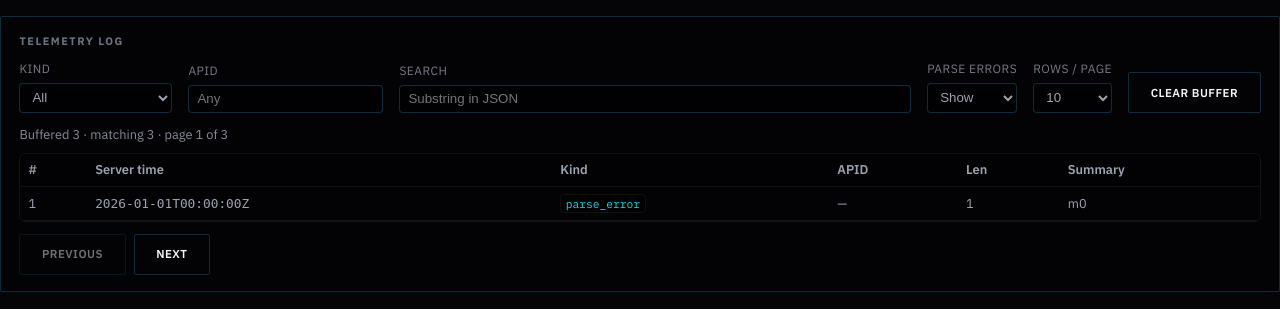
Test case: TelemetryLogTable › pager moves between pages
The image size is (1280, 309).
Expected: the text "m0" is shown, [1060,187,1260,221]
Click the button "Next" at (172, 254), box [134,234,210,275]
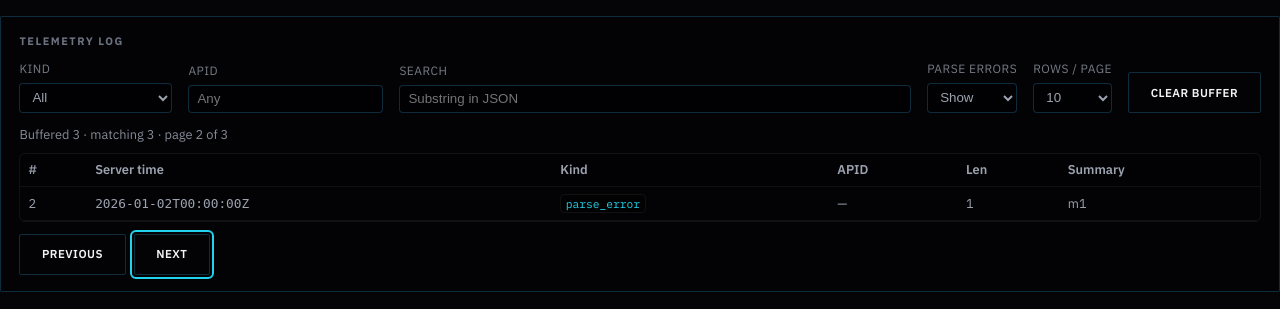
Expected: the text "m1" is shown, [1060,187,1260,221]
Click the button "Previous" at (72, 254), box [19,234,126,275]
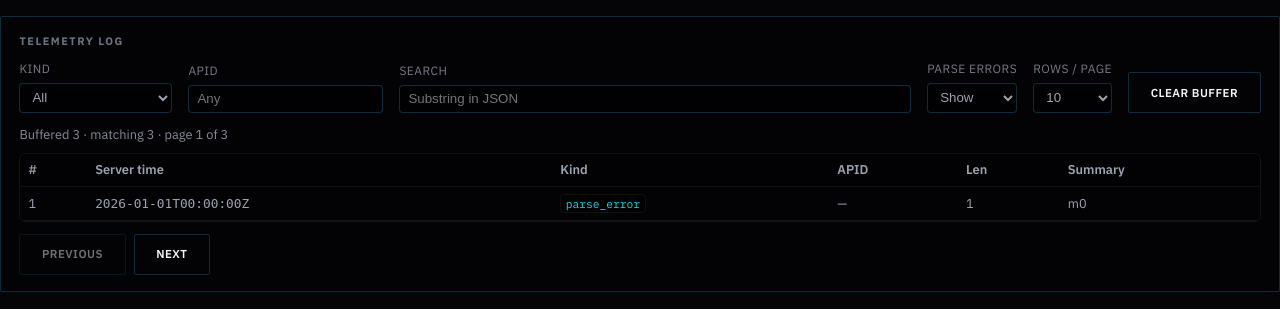
Expected: the text "m0" is shown, [1060,187,1260,221]
